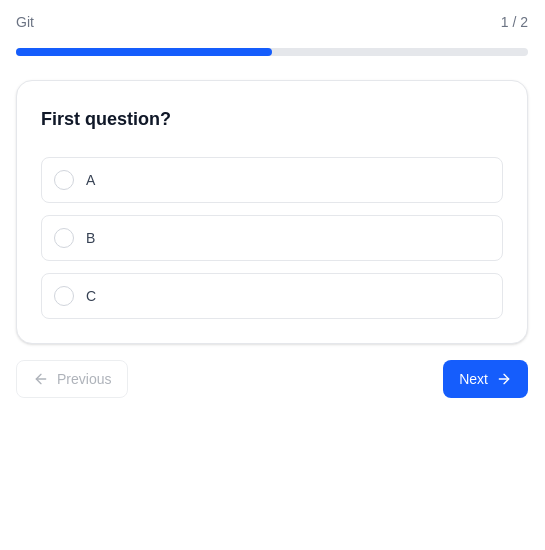
QuizRunner › walks through the quiz, scores answers, and renders results
Expected: the heading "First question?" is shown, [41,109,171,129]
Step 1. Click the button "B" → x=64, y=238, box [41,215,503,261]
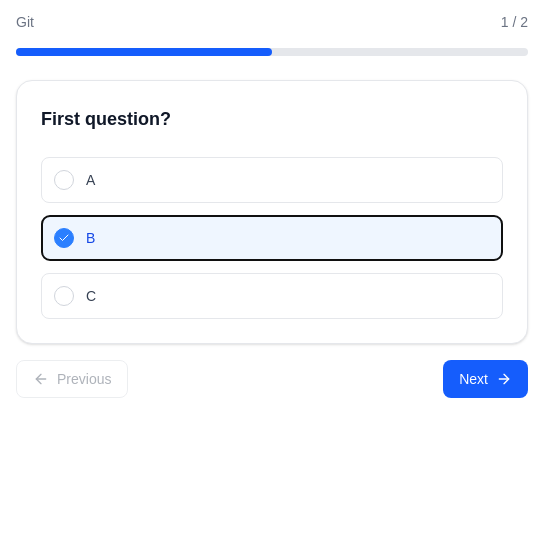
Step 2. Click the button "Next" → x=486, y=379, box [443,360,528,398]
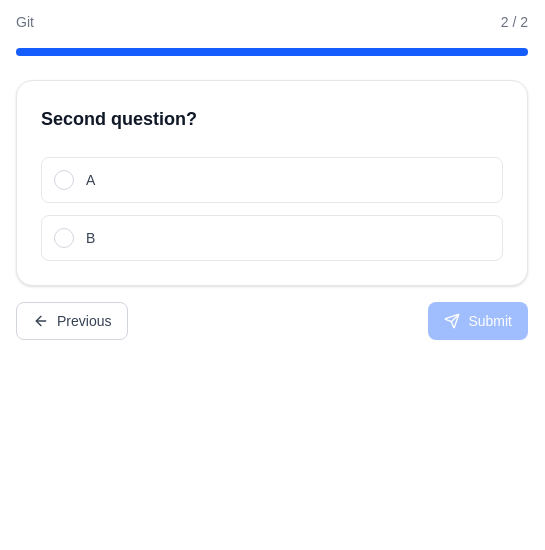
Now the heading "Second question?" is shown, box [41,109,197,129]
Now the button "Previous" is enabled, box [16,302,128,340]
Step 3. Click the button "B" → x=64, y=238, box [41,215,503,261]
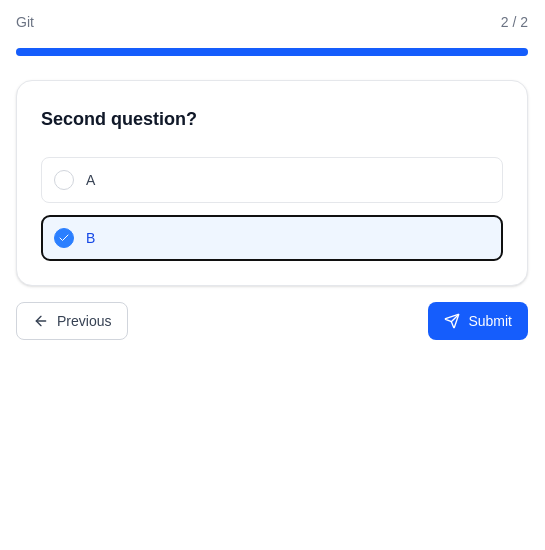
Now the button "Submit" is enabled
Step 4. Click the button "Submit" → x=478, y=321, box [428,302,528,340]
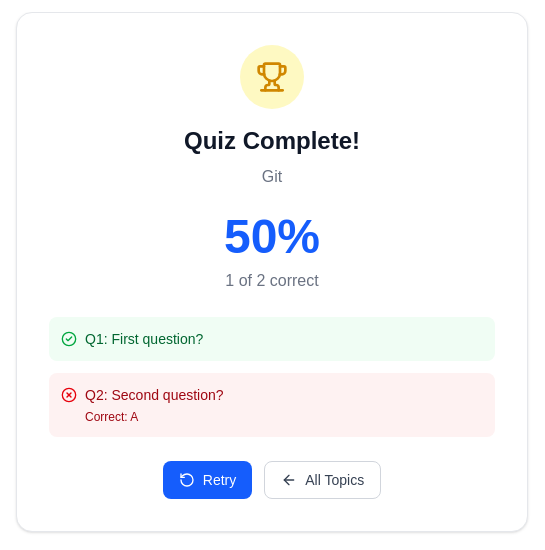
Now the heading "Quiz Complete!" is shown, box [184,127,360,154]
Now the text "50%" is shown, box [224,210,320,263]
Now the text "1 of 2 correct" is shown, box [225,272,319,289]
